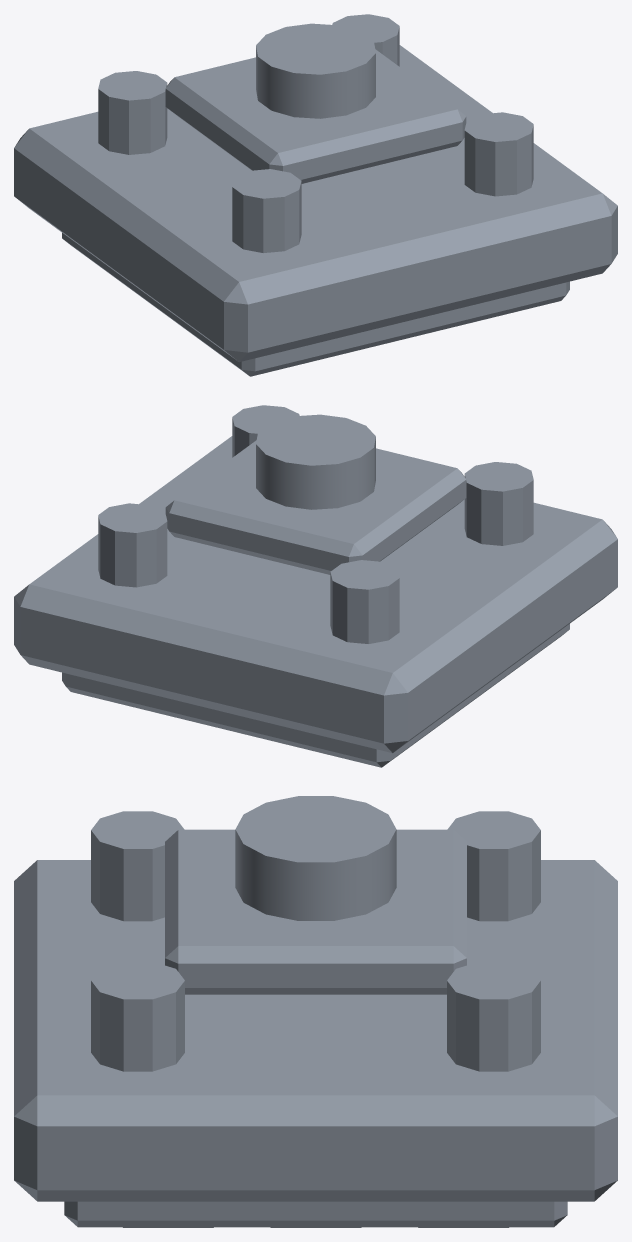
The model's file is agp_plate.glb.
The picture shows the model from 3 angles, top to bottom: view 1: azimuth 30°, elevation 25°; view 2: azimuth 150°, elevation 25°; view 3: azimuth 270°, elevation 25°; orthographic projection. The views are drawn at different scales.
Parts seen in each view (by area): view 1: agp_plate; view 2: agp_plate; view 3: agp_plate.
Part boxes in pixels (x1,y1,x2,y2): agp_plate: (14, 14, 617, 376); agp_plate: (14, 405, 617, 767); agp_plate: (14, 796, 617, 1227).
Bounding box in the file's own units: 0.36 × 0.2085 × 0.36.
